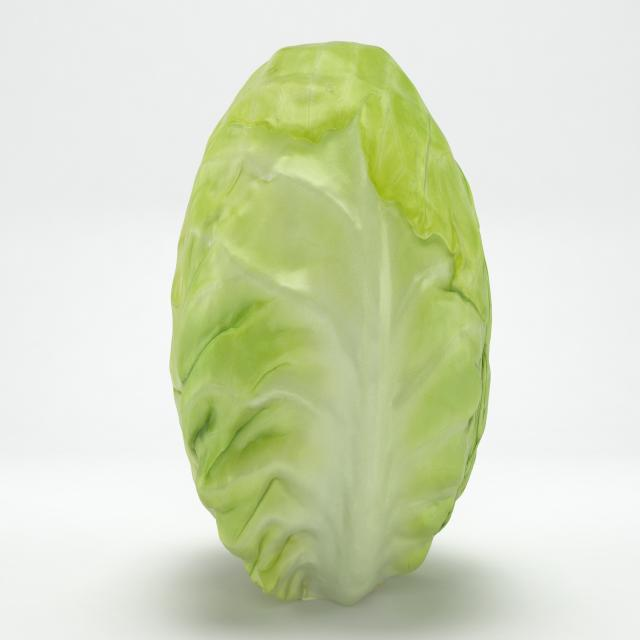cabbage: (168, 26, 495, 603)
